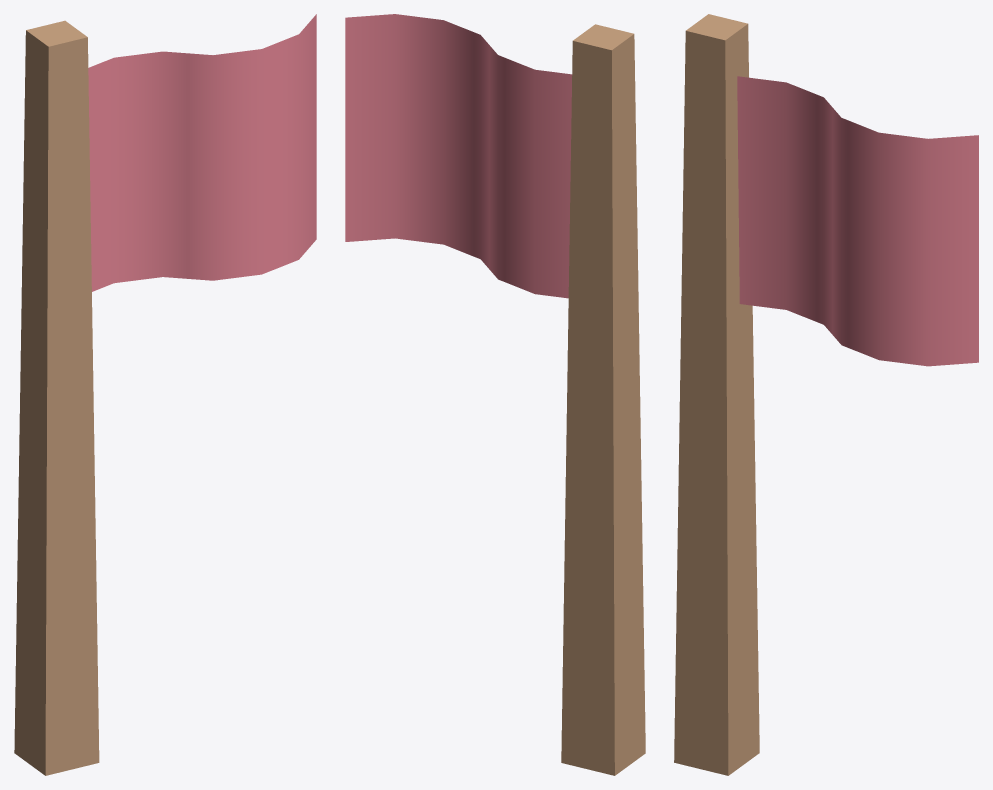
3 views of the same model, side by side, from view 1: azimuth 30°, elevation 25°; view 2: azimuth 150°, elevation 25°; view 3: azimuth 330°, elevation 25° (orthographic).
Parts seen in each view (by area): view 1: flag; view 2: flag; view 3: flag.
Part boxes in pixels (x1,y1,x2,y2): flag: (14,14,316,775); flag: (345,14,645,775); flag: (674,14,978,775).
Bounding box in the file's own units: 0.3726 × 0.9 × 0.085.
